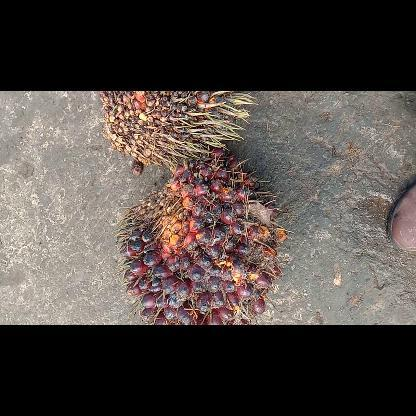Kurang masak: (113, 150, 289, 324)
TBS abnormal: (98, 91, 256, 165)
